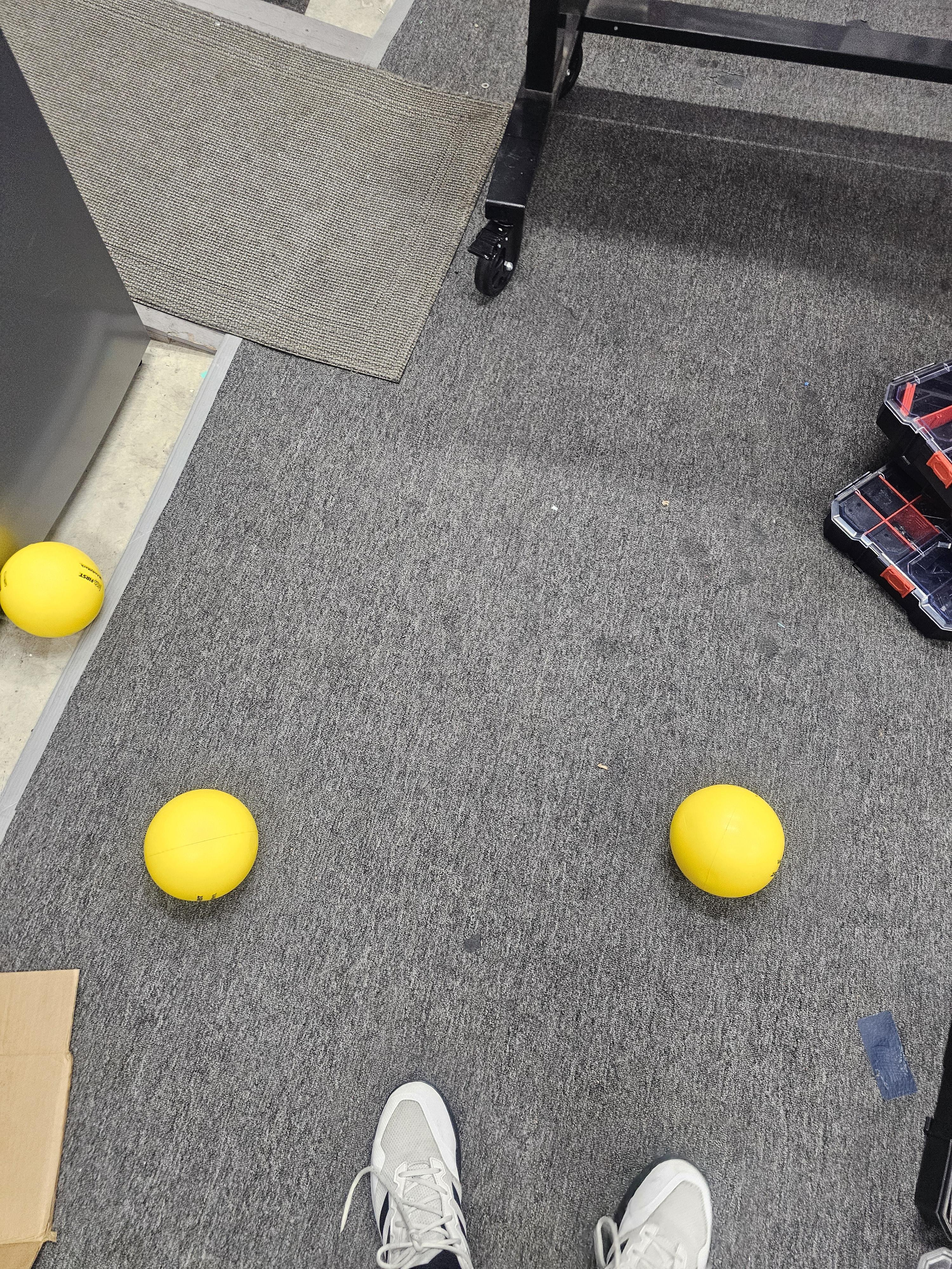fuel: (657, 775, 798, 901), (140, 784, 264, 906), (0, 524, 114, 651)
